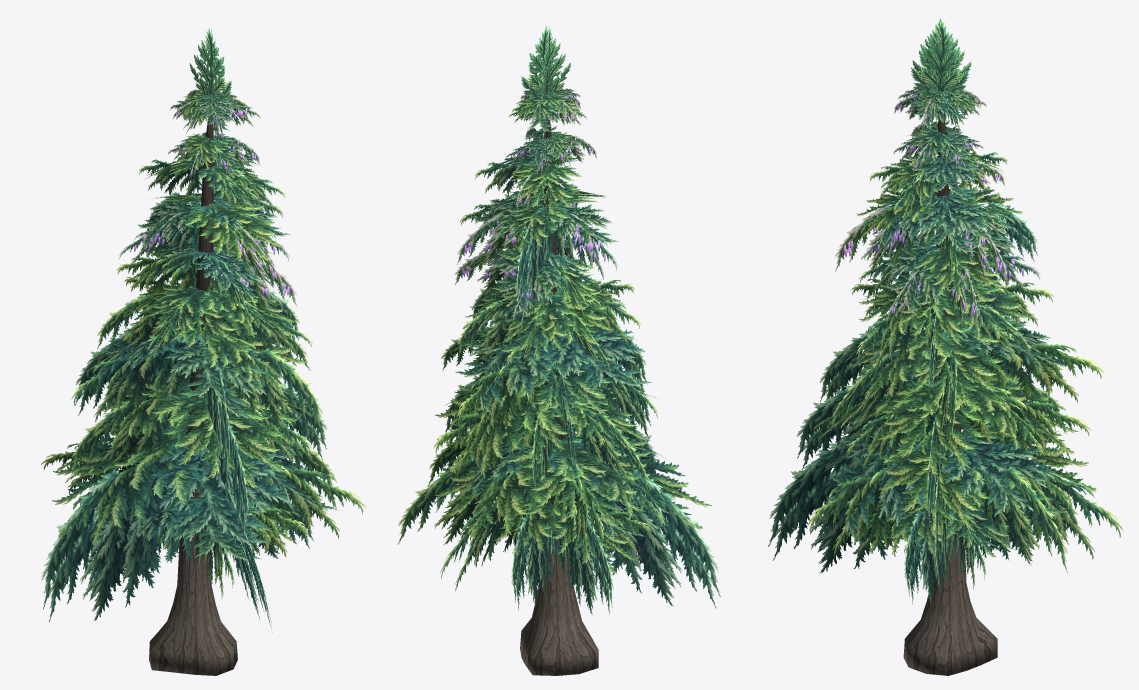
The model's file is tree_pine_pollen_tall.glb.
The picture shows the model from 3 angles, left to right: view 1: azimuth 30°, elevation 25°; view 2: azimuth 150°, elevation 25°; view 3: azimuth 270°, elevation 25°; orthographic projection. The views are drawn at different scales.
Parts seen in each view (by area): view 1: tree_pine_pollen_tall; view 2: tree_pine_pollen_tall; view 3: tree_pine_pollen_tall.
Boxes of the visible parts, x1,y1,x2,y2 form: tree_pine_pollen_tall: (41,28,365,675); tree_pine_pollen_tall: (397,26,720,675); tree_pine_pollen_tall: (768,18,1123,675).
Size of the model in its own units: 15.88 by 32.62 by 16.43.
Materials: 2 (2 with a texture image).
